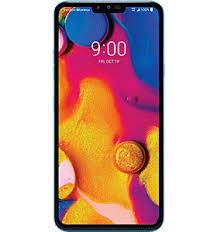lg: (51, 1, 166, 231)
